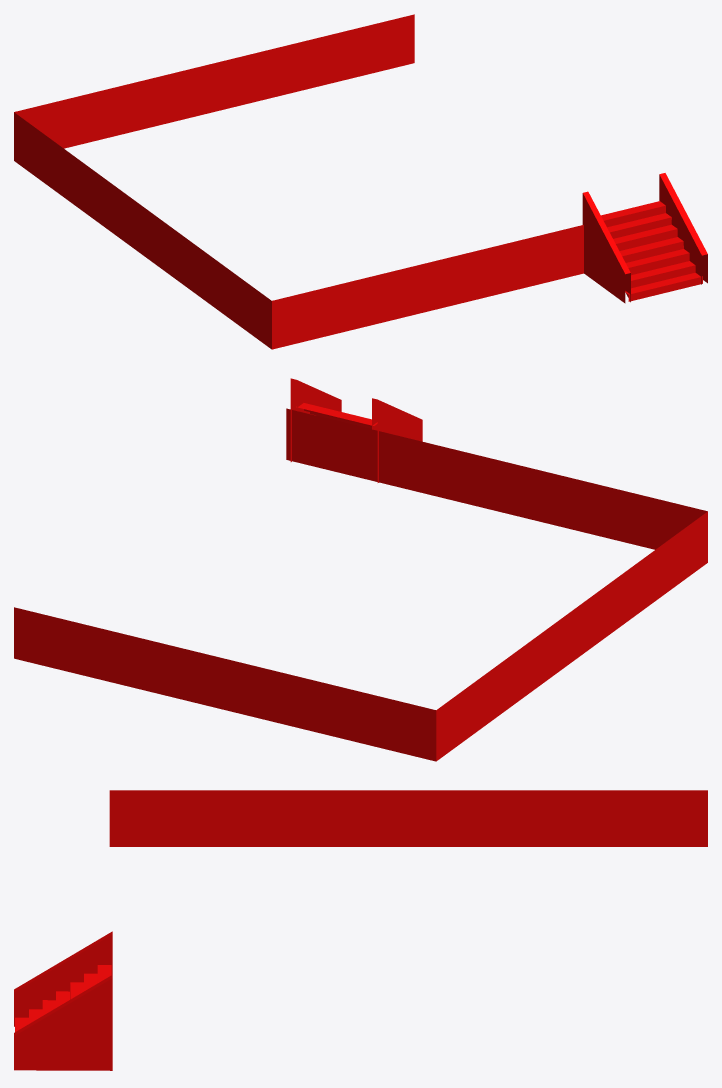
3 views of the same model, one above another, from view 1: azimuth 30°, elevation 25°; view 2: azimuth 150°, elevation 25°; view 3: azimuth 270°, elevation 25° (orthographic). The views are drawn at different scales.
Parts seen in each view (by area): view 1: collision-mesh; view 2: collision-mesh; view 3: collision-mesh.
Part boxes in pixels (bbox=[...]): collision-mesh: bbox=[14, 14, 707, 349]; collision-mesh: bbox=[14, 378, 707, 761]; collision-mesh: bbox=[14, 790, 707, 1070].
Size of the model in its own units: 9.98 by 1.91 by 12.91.
